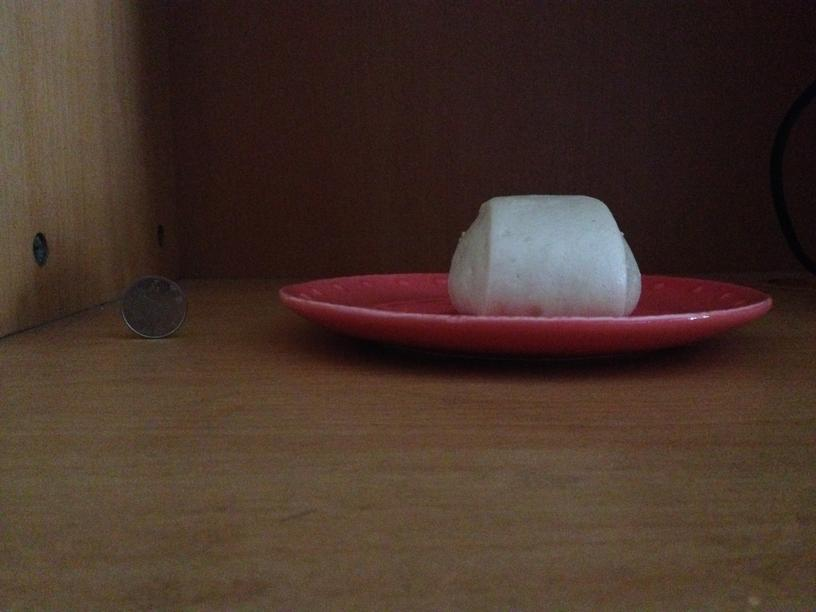bun: (446, 192, 642, 316)
coin: (119, 274, 189, 341)
